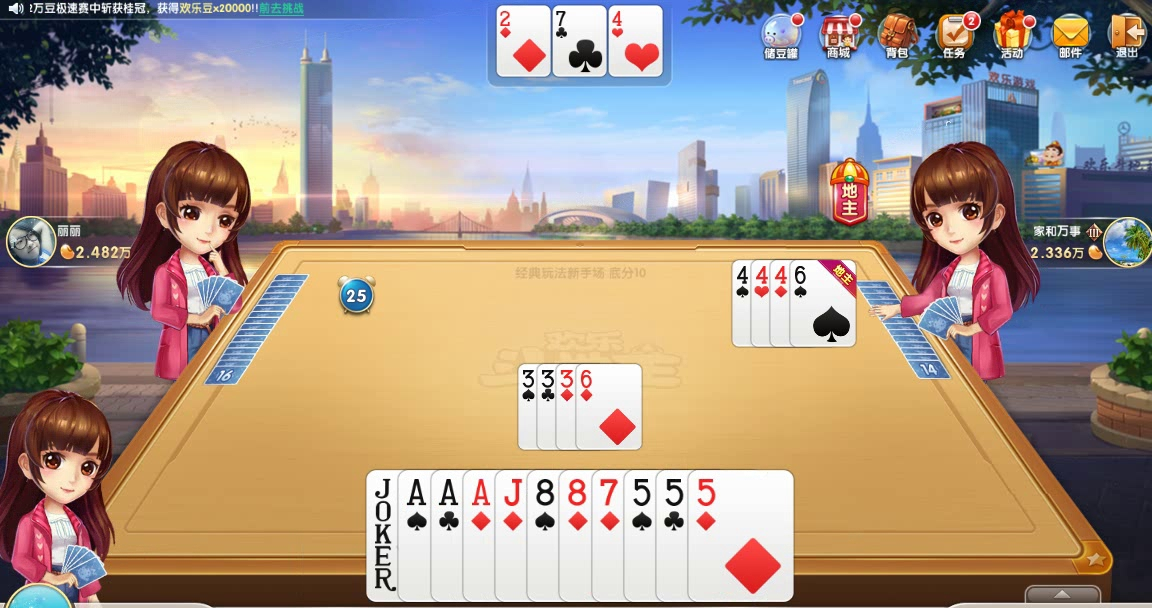11~1: (495, 469, 605, 601)
14~1: (463, 469, 573, 601)
14~2: (430, 469, 540, 601)
14~4: (397, 469, 507, 601)
15~1: (496, 4, 551, 77)
17~3: (366, 469, 476, 601)
3~1: (556, 362, 623, 448)
3~2: (537, 363, 604, 449)
3~4: (519, 363, 586, 449)
4~1: (769, 258, 835, 346)
4~3: (751, 258, 817, 346), (609, 4, 664, 77)
4~4: (733, 258, 799, 346)
5~1: (686, 469, 796, 601)
5~2: (656, 469, 766, 601)
5~4: (623, 469, 733, 601)
6~1: (576, 362, 643, 448)
6~4: (790, 258, 856, 346)
7~1: (591, 469, 701, 601)
7~2: (553, 4, 608, 77)
8~1: (559, 469, 669, 601)
8~4: (527, 469, 637, 601)
